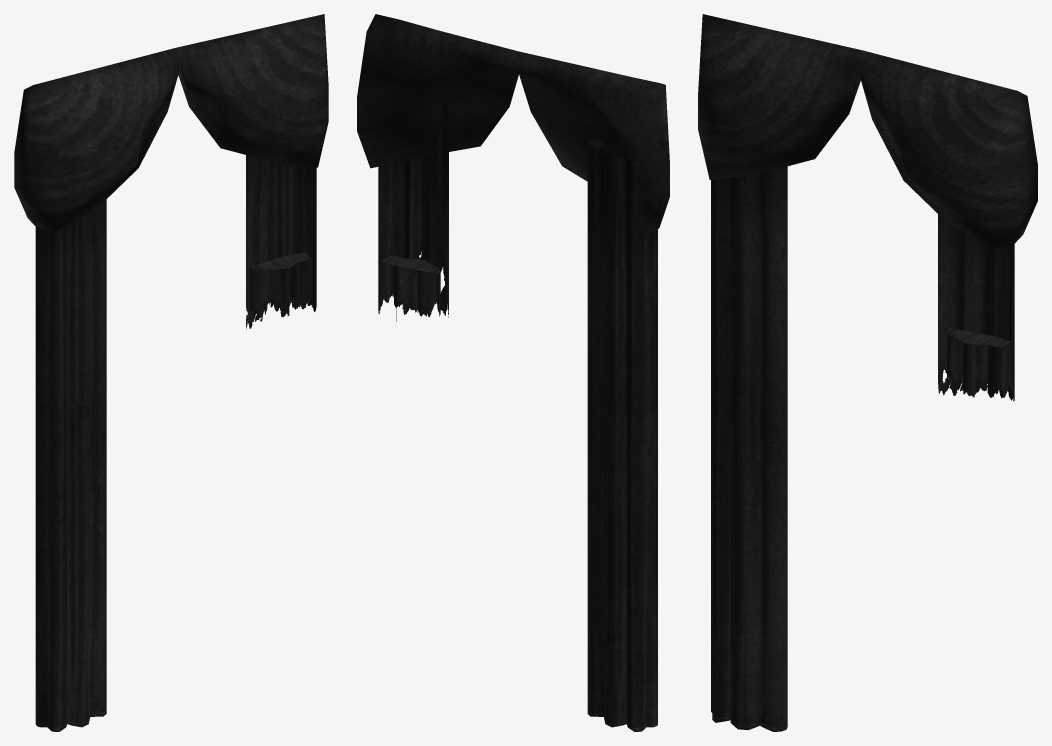
Rendered from curtain12_long_broken02.dae.
3 renders of one model, left to right at view 1: azimuth 30°, elevation 25°; view 2: azimuth 150°, elevation 25°; view 3: azimuth 330°, elevation 25°, orthographic. The views are drawn at different scales.
Visible parts, largest first — view 1: polySurface198, polySurface193, polySurface192; view 2: polySurface198, polySurface193, polySurface192; view 3: polySurface198, polySurface193, polySurface192.
Part boxes in pixels (bbox=[...]): polySurface198: bbox=[14, 14, 328, 731]; polySurface193: bbox=[246, 155, 316, 329]; polySurface192: bbox=[249, 252, 311, 317]; polySurface198: bbox=[357, 14, 669, 731]; polySurface193: bbox=[378, 100, 448, 321]; polySurface192: bbox=[381, 255, 440, 317]; polySurface198: bbox=[698, 14, 1037, 731]; polySurface193: bbox=[938, 214, 1014, 401]; polySurface192: bbox=[947, 328, 1011, 397].
Size of what is drawn, in the model's own units: 2.5 by 5.08 by 0.4673.
